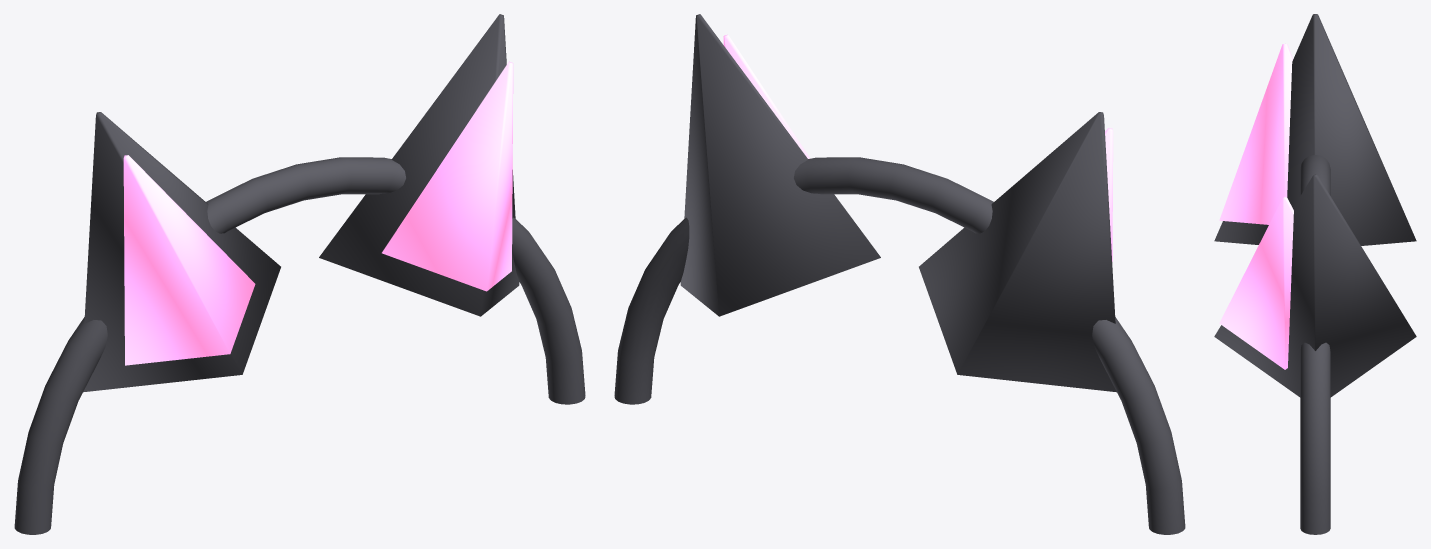
The model's file is cat_ears.glb.
The picture shows the model from 3 angles, left to right: view 1: azimuth 30°, elevation 25°; view 2: azimuth 150°, elevation 25°; view 3: azimuth 270°, elevation 25°; orthographic projection. The views are drawn at different scales.
Parts seen in each view (by area): view 1: cat_ears; view 2: cat_ears; view 3: cat_ears.
Part boxes in pixels (x1,y1,x2,y2): cat_ears: (14,14,585,534); cat_ears: (614,14,1185,534); cat_ears: (1214,14,1416,534).
Bounding box in the file's own units: 0.212 × 0.1426 × 0.08.
